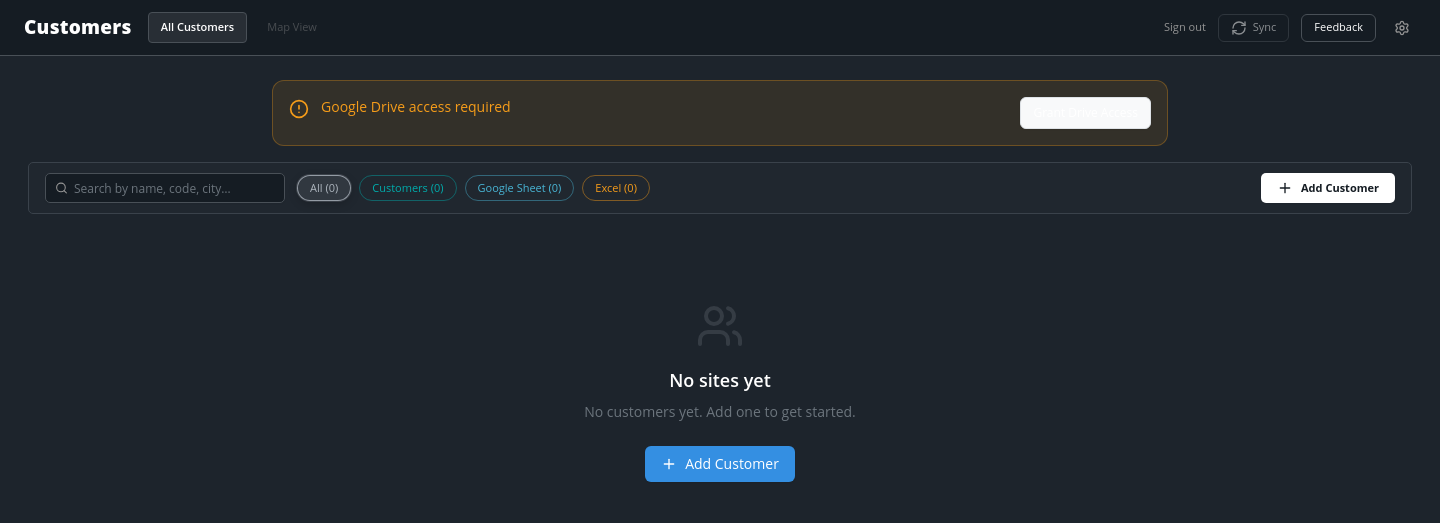
Test case: Drive site-configs › keeps showing Grant Drive Access when the folder is still not shared with this account after granting
Check: the message "Google Drive access required Grant Drive Access" is shown, box [272, 80, 1168, 146]
What coordinates should you click on to do the following:
click the button "Grant Drive Access"
I would click on:
 (1086, 113)
Its box is [1020, 97, 1151, 129].
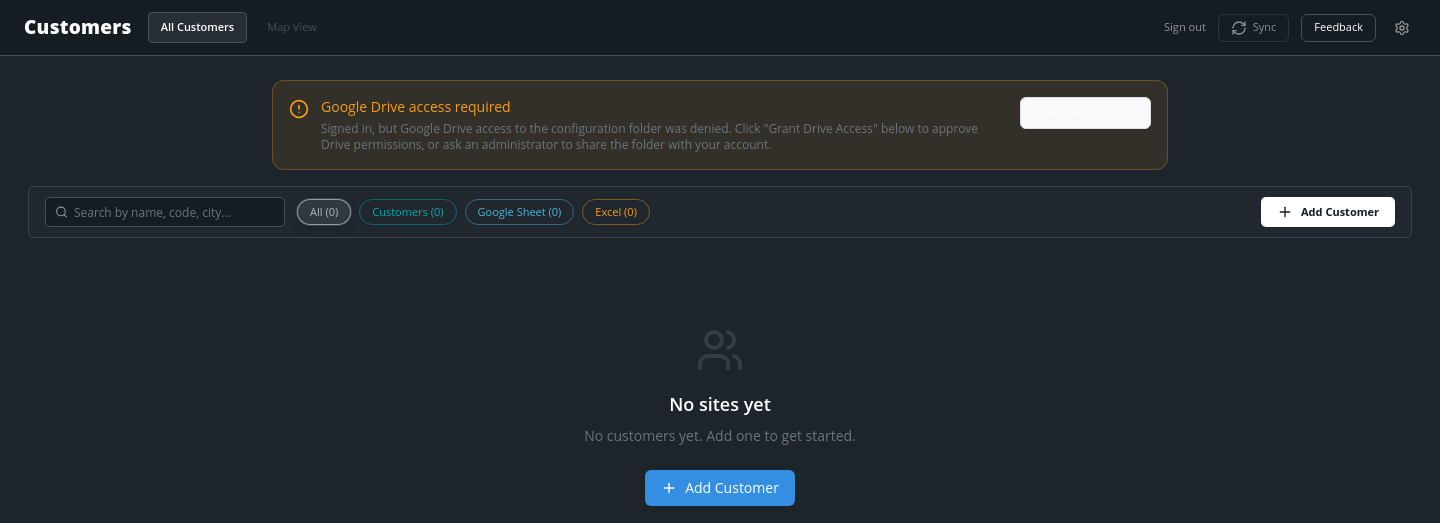
Check: the text "access to the configuration folder was denied" is shown, box [321, 120, 978, 153]
